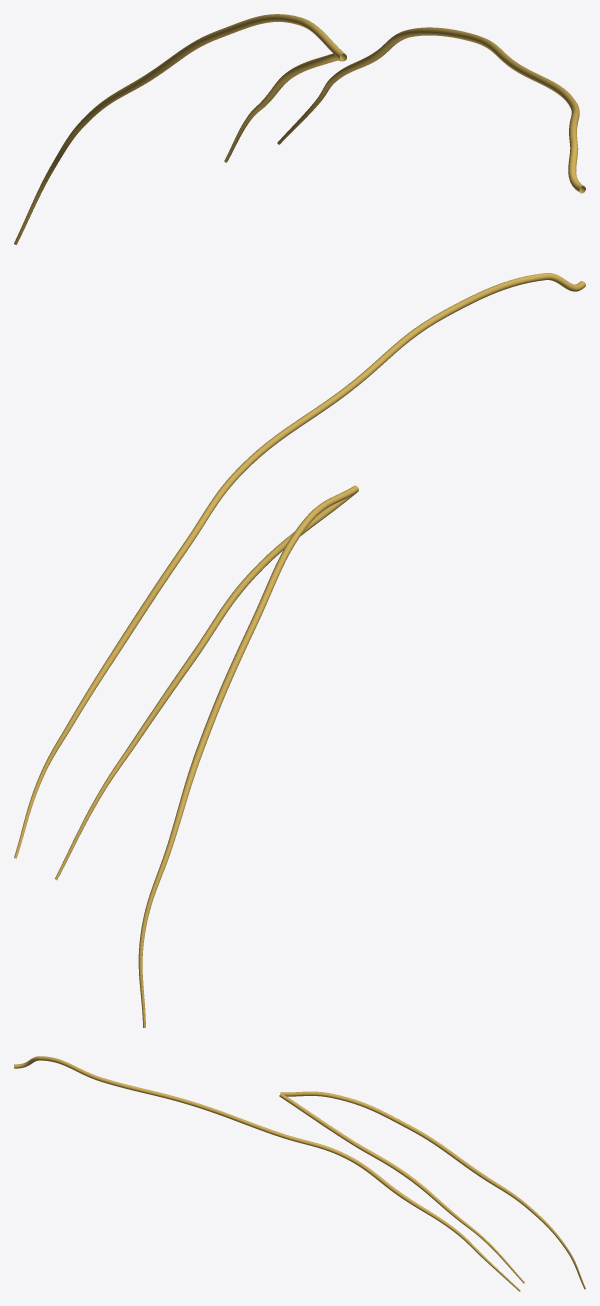
The picture shows the model from 3 angles, top to bottom: view 1: azimuth 30°, elevation 25°; view 2: azimuth 150°, elevation 25°; view 3: azimuth 270°, elevation 25°; orthographic projection. The views are drawn at different scales.
Parts seen in each view (by area): view 1: 右侧尺神经指掌侧固有神经; view 2: 右侧尺神经指掌侧固有神经; view 3: 右侧尺神经指掌侧固有神经.
Boxes of the visible parts, left/top/right/bottom form: 右侧尺神经指掌侧固有神经: left=14, top=14, right=585, bottom=244; 右侧尺神经指掌侧固有神经: left=14, top=273, right=585, bottom=1027; 右侧尺神经指掌侧固有神经: left=14, top=1056, right=585, bottom=1291.
Size of the model in its own units: 0.0446 by 0.0924 by 0.1925.
